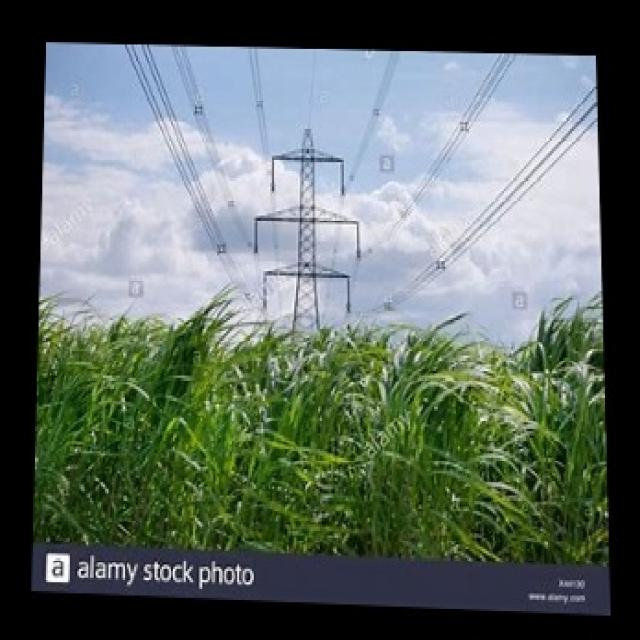utility poles: (257, 106, 365, 550)
